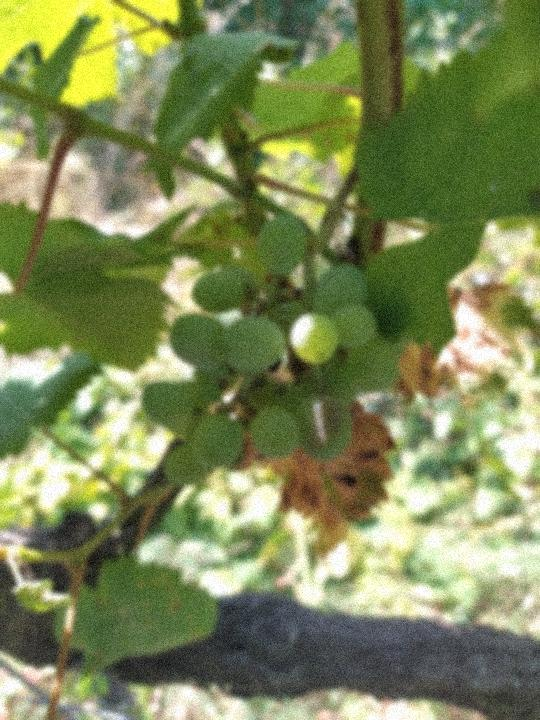grape: (138, 212, 410, 487)
